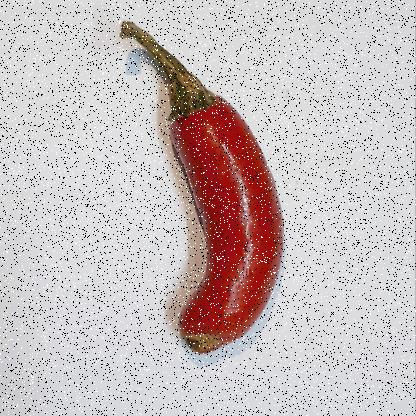chili: (107, 19, 296, 360)
